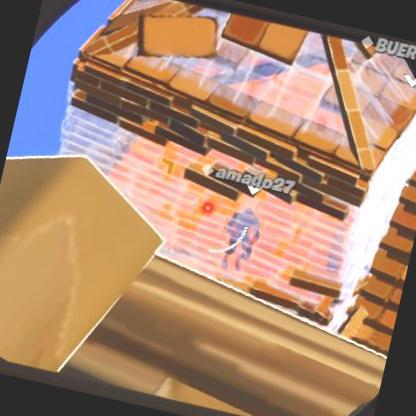person: (219, 199, 270, 277)
